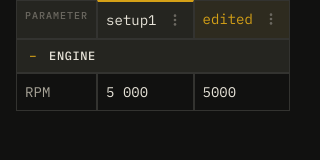
Test case: ComparisonTable diff mode toggle › disables toggle when canToggleDiffMode is false
Click the button titled "Actions" next to "edited". click: (271, 19)
box: [261,9,281,29]
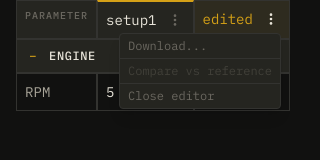
Now the button "Compare vs reference" is disabled, box [120,61,280,81]
